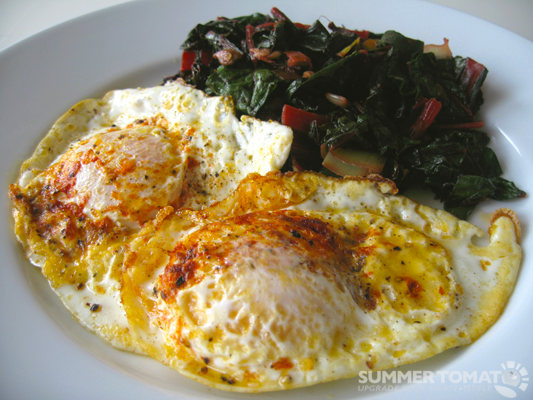chopped lettuce: (261, 28, 481, 132)
fried egg: (67, 136, 349, 359)
